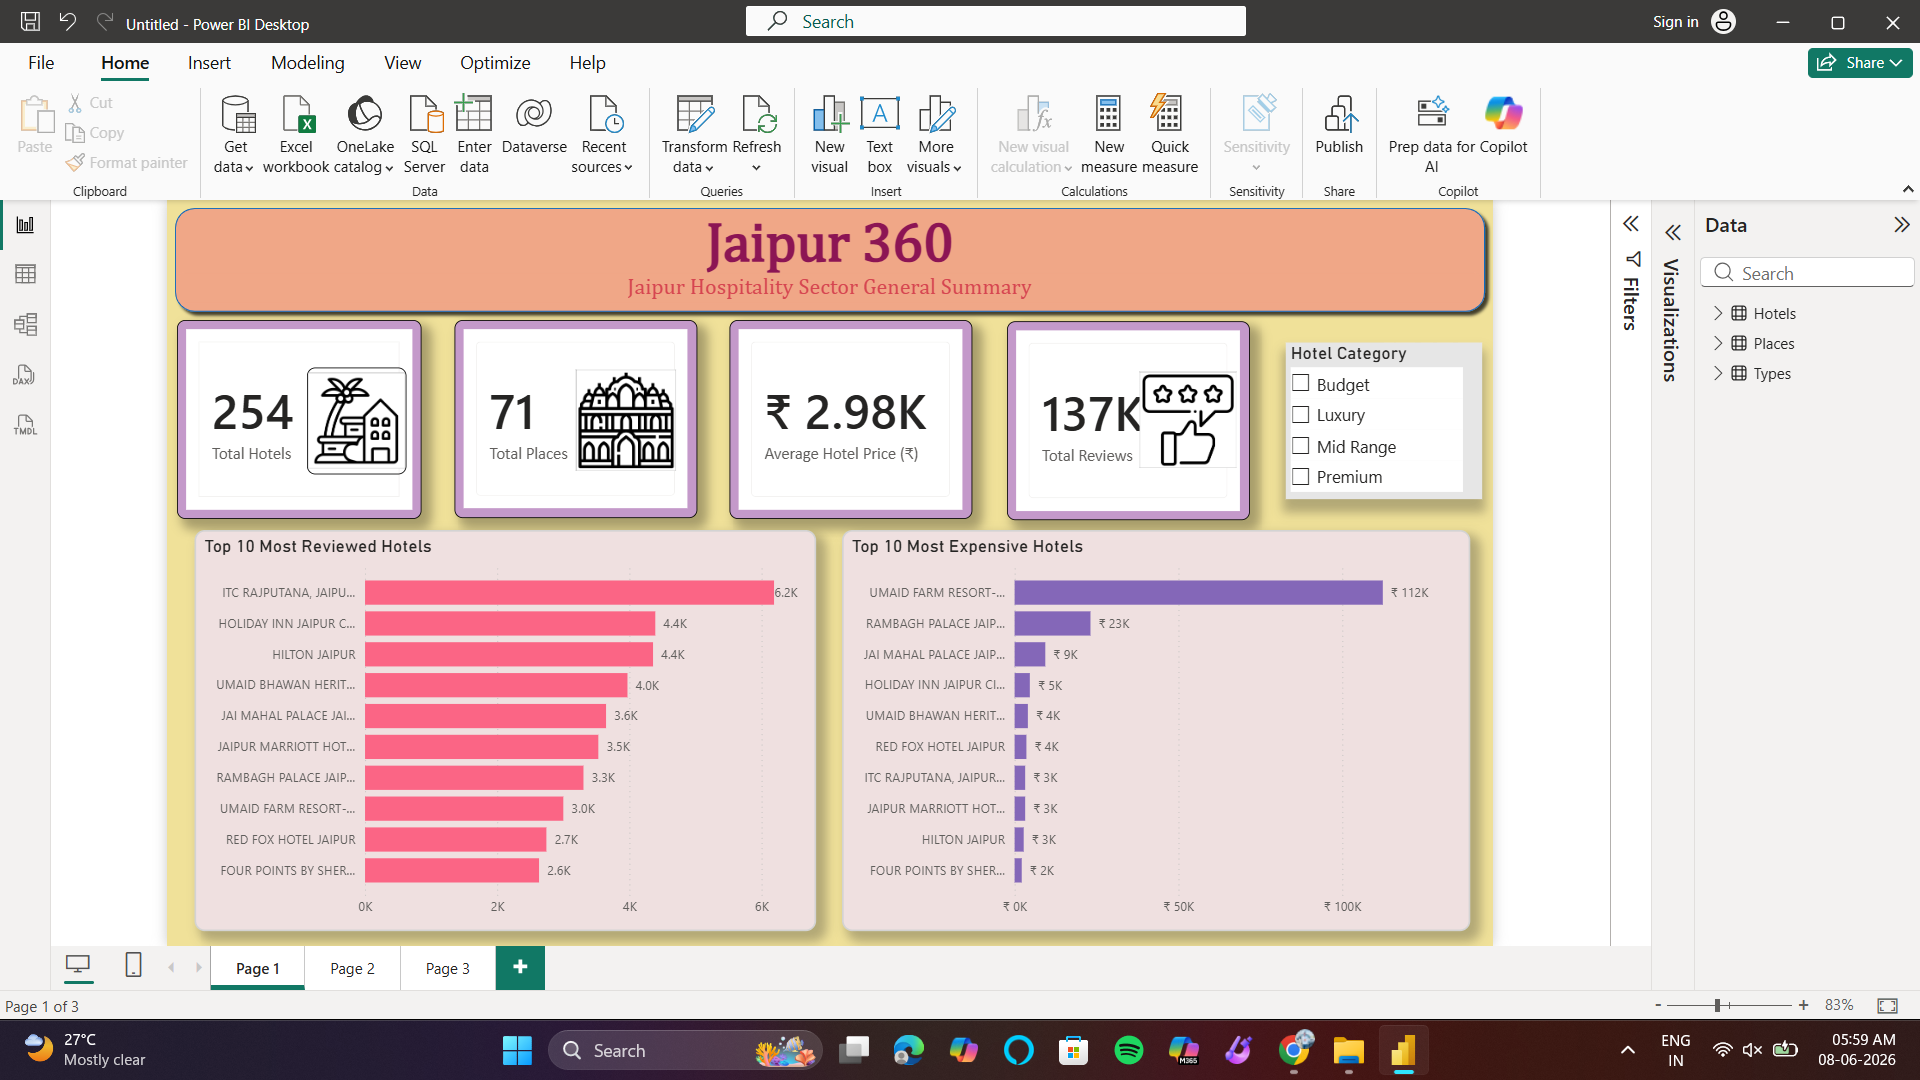

What the dashboard file says about the page in this screenshot:
{"tool":"powerbi","page":{"name":"Page 1","canvas":[1280,720],"ordinal":0},"visuals":[{"type":"shape","box":[0,0,1280,115.7],"z":0},{"type":"cardVisual","fields":{"Data":["CountNonNull(Hotels.HOTEL)"]},"box":[9.6,115.3,236,192.1],"z":1000},{"type":"cardVisual","fields":{"Data":["CountNonNull(Places.POIs)"]},"box":[277.1,115.7,234.3,191.4],"z":2000},{"type":"cardVisual","fields":{"Data":["Avg(Hotels.PRICE_RUPEES)"]},"box":[543.4,115.3,234.6,192.1],"z":3000},{"type":"cardVisual","fields":{"Data":["Sum(Hotels.NUMBER_OF_REVIEWS)"]},"box":[811,116.6,234.6,192.1],"z":4000},{"type":"clusteredBarChart","title":"Top 10 Most Reviewed Hotels","fields":{"Category":["Hotels.HOTEL"],"Y":["Sum(Hotels.NUMBER_OF_REVIEWS)"]},"box":[26.1,318.4,599.7,387],"z":5000},{"type":"clusteredBarChart","title":"Top 10 Most Expensive Hotels","fields":{"Category":["Hotels.HOTEL"],"Y":["Sum(Hotels.PRICE_RUPEES)"]},"box":[651.8,318.4,606.5,387],"z":6000},{"type":"listSlicer","fields":{"Values":["Hotels.Hotel Category"]},"box":[1079.9,137.2,189.4,150.9],"z":7000},{"type":"image","box":[135.7,161.4,95.7,102.9],"z":9500},{"type":"image","box":[394.3,160,97.1,104.3],"z":9750},{"type":"shape","box":[10,70,1260,30],"z":11500},{"type":"image","box":[938.6,159.2,93.3,105.7],"z":13000}]}

Visuals, with their boxes on the page's 1280x720 design canvas (x1, y1, x2, y2). These are canvas units, not pixel positions in the 1920x1080 screenshot, which may show the page scaled, cropped or inside an application window:
shape: 0/0/1280/116
cardVisual - CountNonNull(Hotels.HOTEL): 10/115/246/307
cardVisual - CountNonNull(Places.POIs): 277/116/511/307
cardVisual - Avg(Hotels.PRICE_RUPEES): 543/115/778/307
cardVisual - Sum(Hotels.NUMBER_OF_REVIEWS): 811/117/1046/309
"Top 10 Most Reviewed Hotels" clusteredBarChart: 26/318/626/705
"Top 10 Most Expensive Hotels" clusteredBarChart: 652/318/1258/705
listSlicer - Hotels.Hotel Category: 1080/137/1269/288
image: 136/161/231/264
image: 394/160/491/264
shape: 10/70/1270/100
image: 939/159/1032/265
